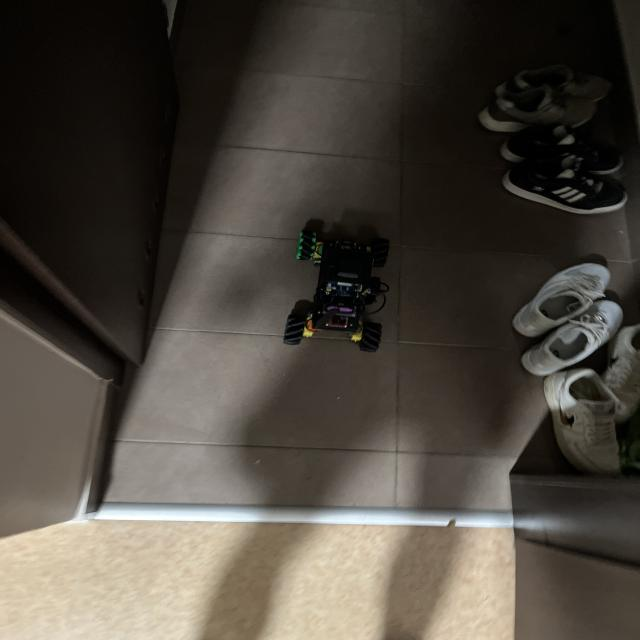robot: (283, 230, 389, 352)
